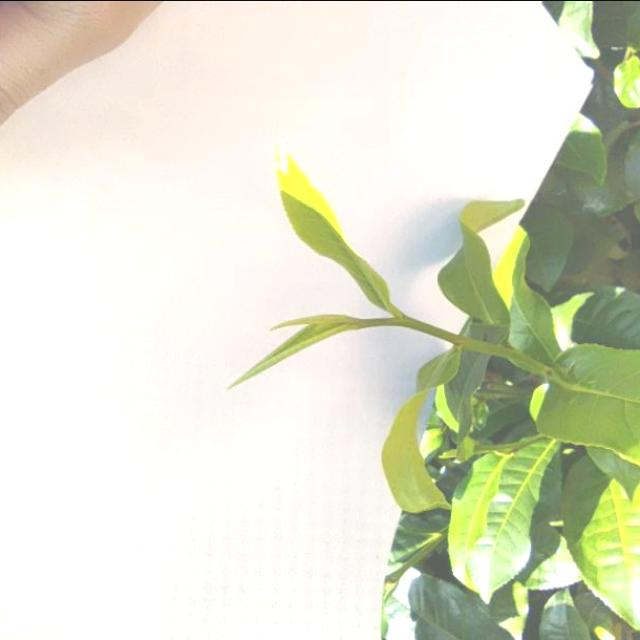Stem: (399, 314, 408, 326)
